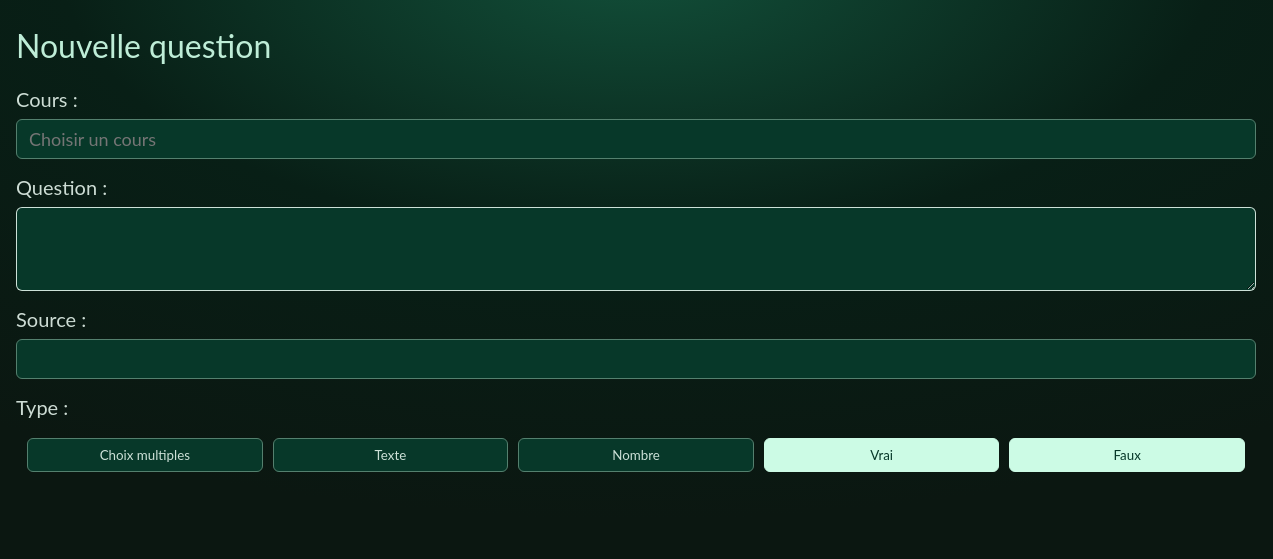
Test case: NewQuestion › affiche les erreurs quand on clique sur Vrai avec un formulaire vide
Click the button "Vrai".
click(882, 455)  # box [764, 438, 999, 472]
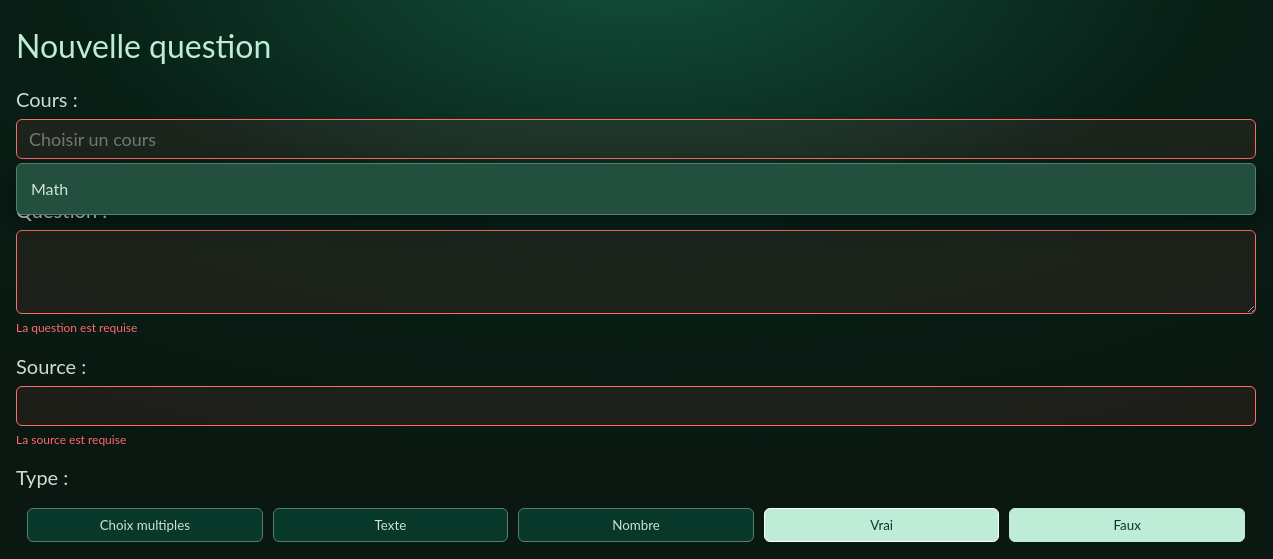
Expected: the text "Choisissez un cours" is shown once, [16, 165, 119, 180]
Expected: the text "La question est requise" is shown once, [16, 320, 137, 335]
Expected: the text "La source est requise" is shown once, [16, 432, 126, 447]
